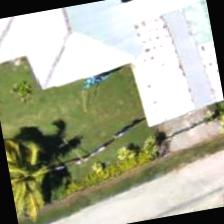Kelapa_Sawit: (2, 125, 77, 223)
